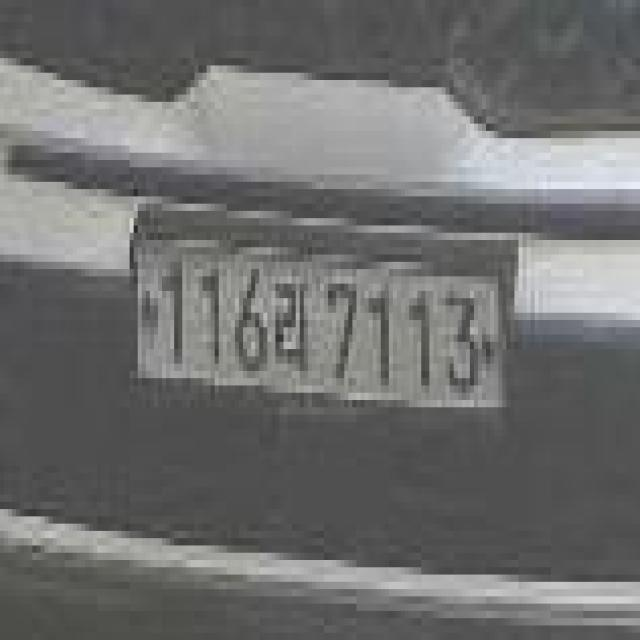illegal_plate: (132, 225, 511, 435)
